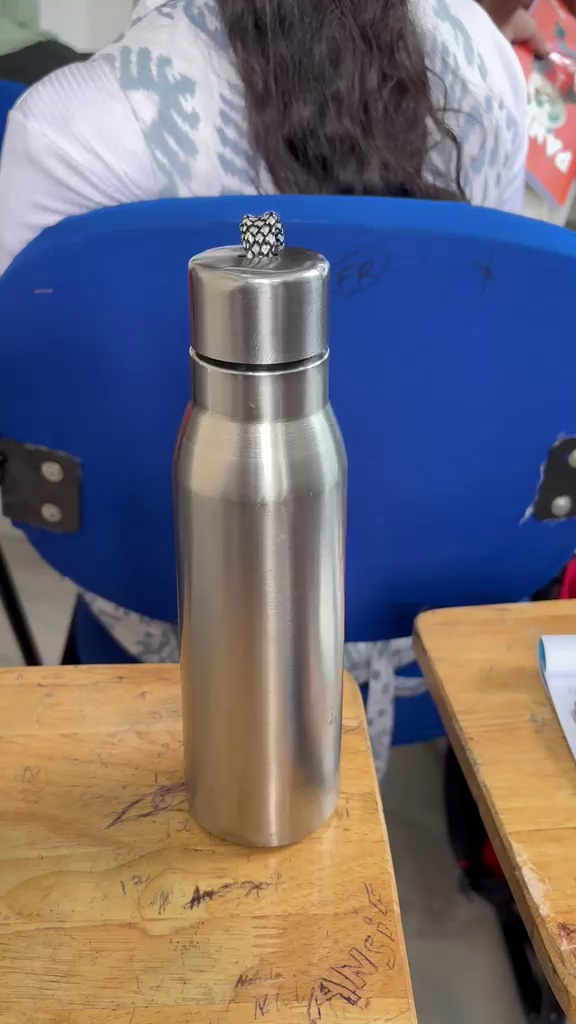Bottle: (168, 218, 366, 846)
